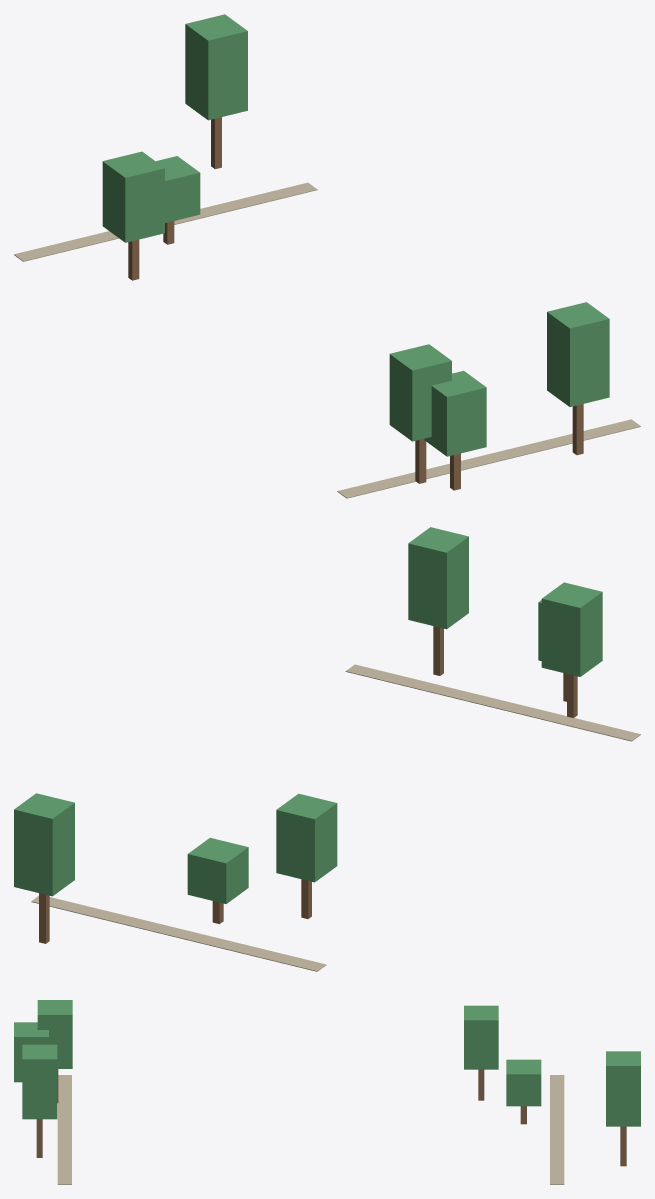
File: parks.glb
3 renders of one model, top to bottom at view 1: azimuth 30°, elevation 25°; view 2: azimuth 150°, elevation 25°; view 3: azimuth 270°, elevation 25°, orthographic. The views are drawn at different scales.
Parts seen in each view (by area): view 1: MGR Forge Test Neighborhood Parks; view 2: MGR Forge Test Neighborhood Parks; view 3: MGR Forge Test Neighborhood Parks.
Part boxes in pixels (box(x1,y1,x2,y2)): MGR Forge Test Neighborhood Parks: box(14, 14, 640, 498); MGR Forge Test Neighborhood Parks: box(14, 527, 640, 971); MGR Forge Test Neighborhood Parks: box(14, 1000, 640, 1184).
Bounding box in the file's own units: 12.6 × 5.73 × 30.56.
